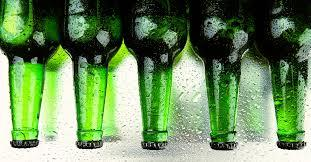Glass bottle: (0, 0, 311, 154)
